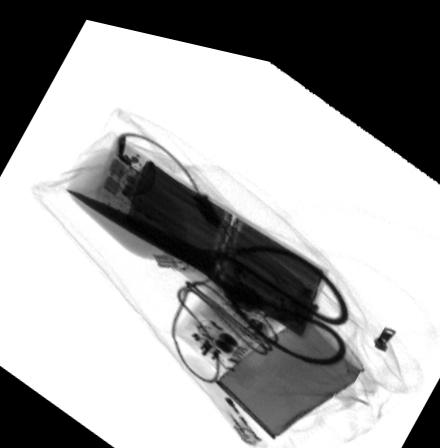Lighter: (179, 345, 264, 433)
Powerbank: (114, 147, 332, 329)
Scissors: (61, 181, 353, 352)
